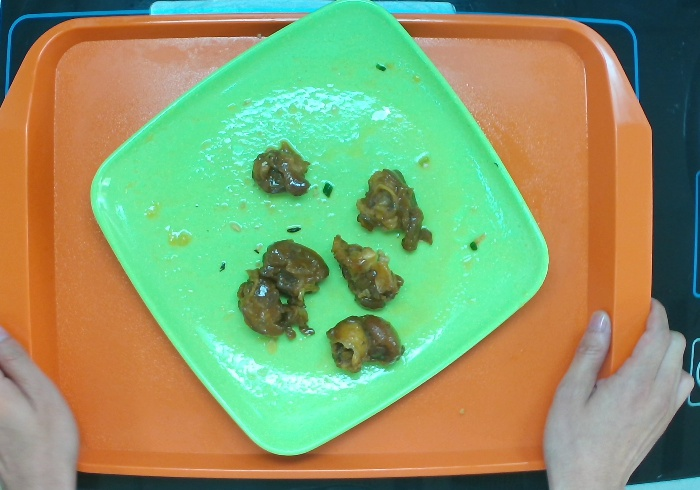ZNLD-Lv_Fang_Pan: (88, 1, 551, 457)
